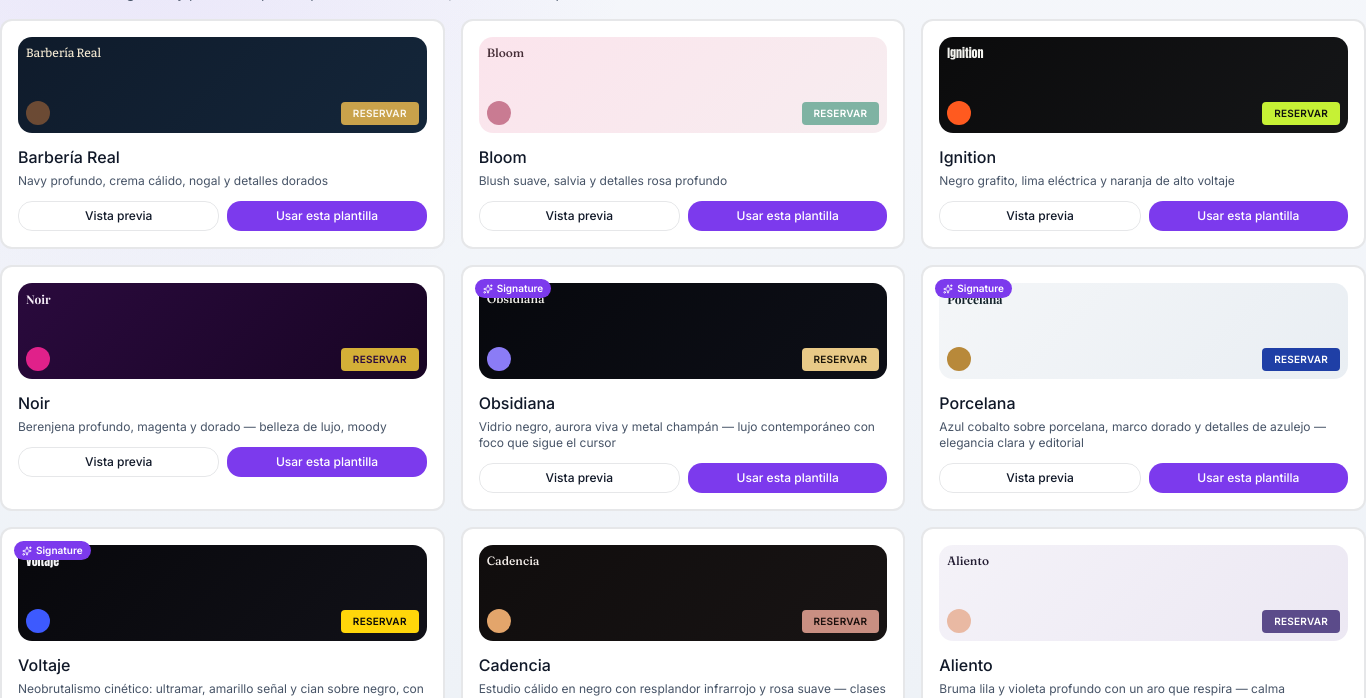
Test: PremiumTemplateSelector › choosing a template only selects it; nothing is saved until "Guardar cambios"
This screenshot has width=1366, height=698.
Later steps or results of the test are not shown.
Click the 1st button "Usar esta plantilla": (327,216) [227,201,427,231]
(page scrolled)
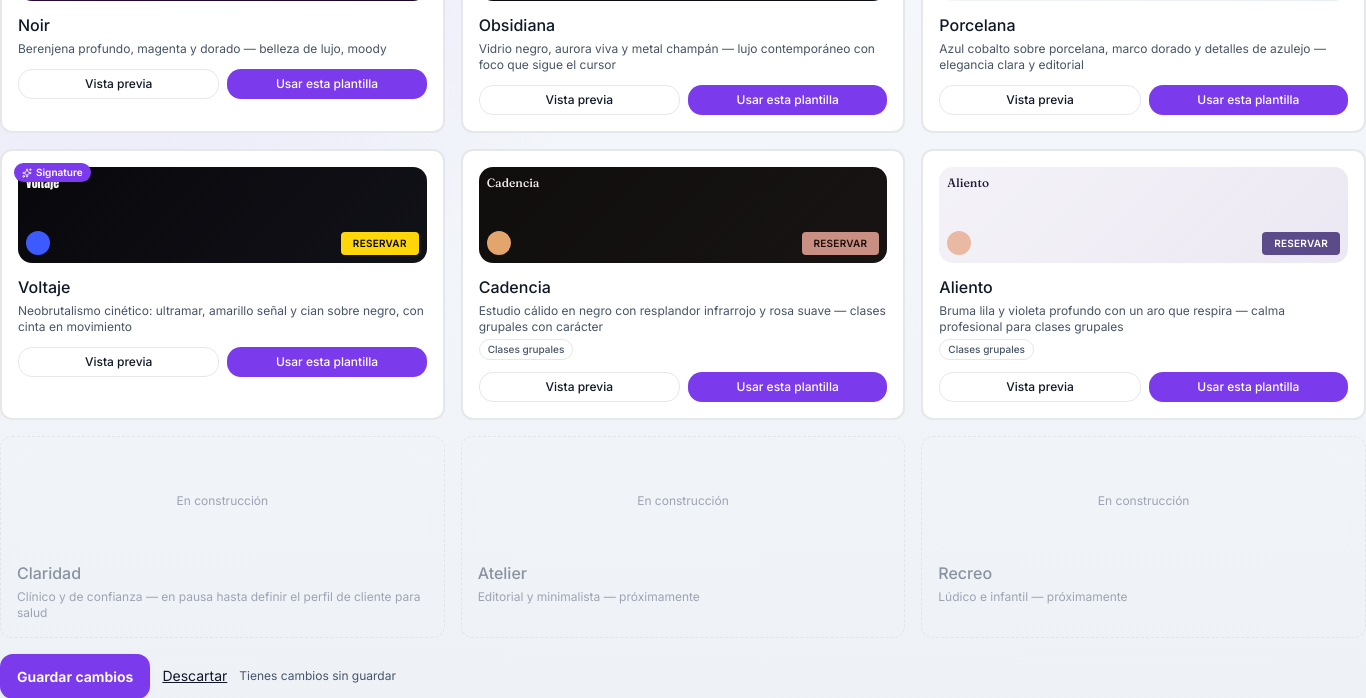
Expected: the text "Tienes cambios sin guardar" is shown, [239,668,396,684]
